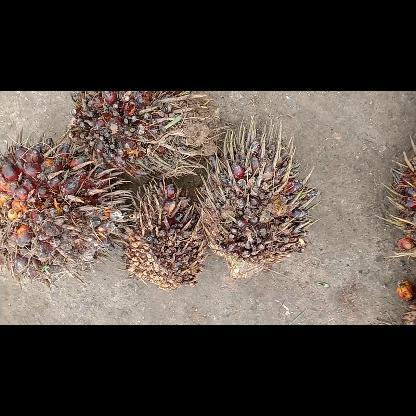TBS abnormal: (202, 122, 314, 278), (68, 90, 218, 174), (122, 178, 204, 290)
TBS masak: (1, 136, 129, 278)
